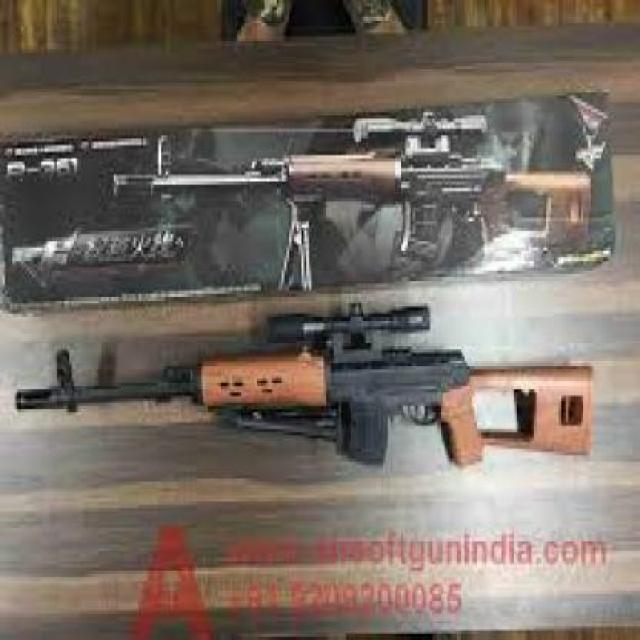weapon: (0, 297, 622, 480)
